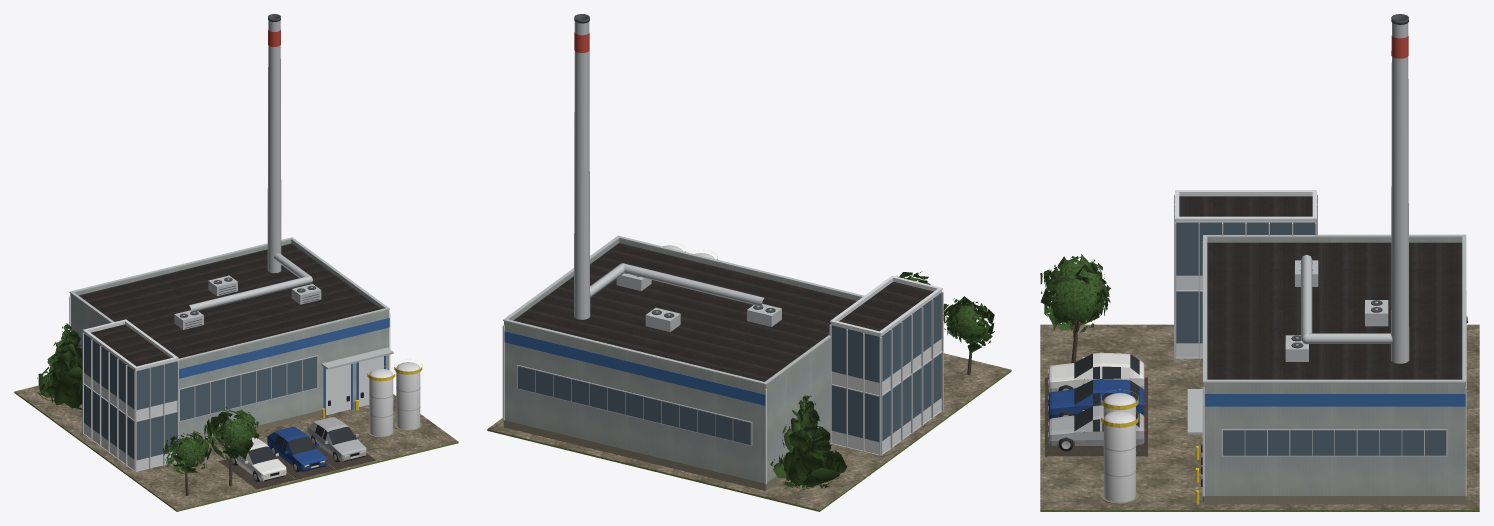
Rendered from factory_modern.glb.
3 views of the same model, side by side, from view 1: azimuth 30°, elevation 25°; view 2: azimuth 150°, elevation 25°; view 3: azimuth 270°, elevation 25° (orthographic). The views are drawn at different scales.
Parts seen in each view (by area): view 1: factory_modern_body, factory_modern_foliage; view 2: factory_modern_body, factory_modern_foliage; view 3: factory_modern_body, factory_modern_foliage.
Part boxes in pixels (x1,y1,x2,y2): factory_modern_body: (14,14,458,511); factory_modern_foliage: (37,323,259,473); factory_modern_body: (487,14,1011,511); factory_modern_foliage: (770,271,994,491); factory_modern_body: (1040,14,1479,511); factory_modern_foliage: (1040,254,1468,332).
Bounding box in the file's own units: 0.94 × 1.09 × 0.94.
Materials: 27 (12 with a texture image).
